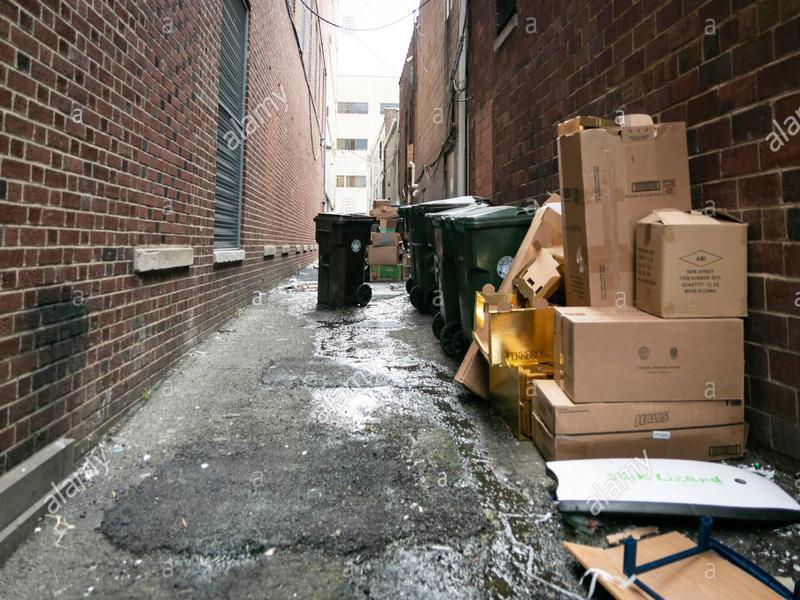cardboard: (548, 104, 691, 311), (523, 376, 753, 464), (550, 304, 750, 404), (537, 449, 800, 522), (448, 244, 559, 401), (630, 206, 756, 319)
